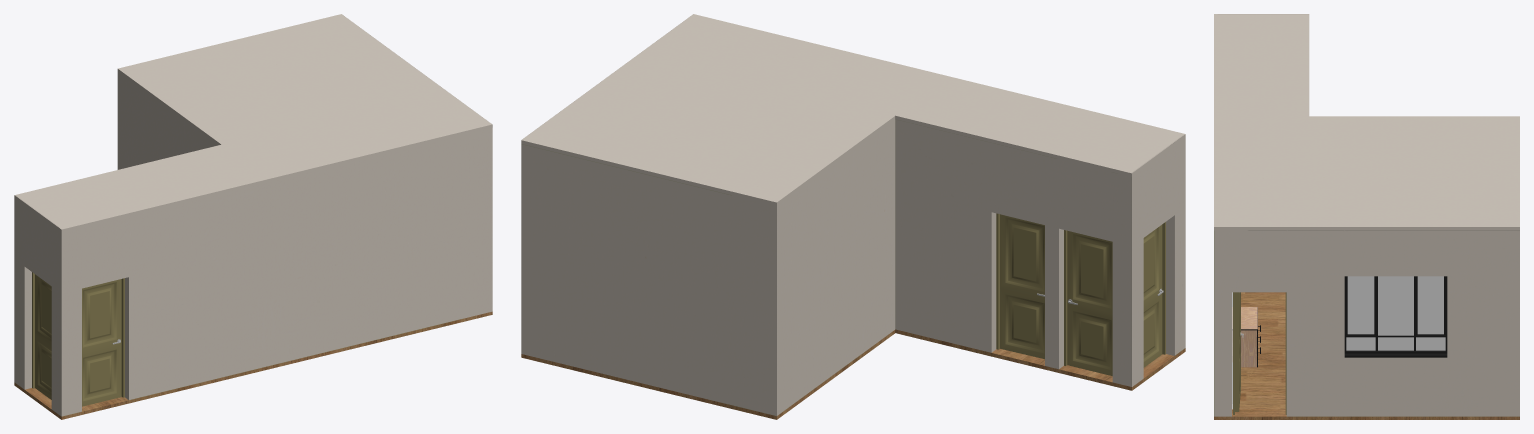
The model's file is HousePlan.fbx.
3 renders of one model, left to right at view 1: azimuth 30°, elevation 25°; view 2: azimuth 150°, elevation 25°; view 3: azimuth 270°, elevation 25°, orthographic. The views are drawn at different scales.
Visible parts, largest first — view 1: Outside_walls, Ceiling, BR_Door, LoungeFloor, BDR3_Door, BR_DoorFrame; view 2: Outside_walls, Ceiling, MB_Door, BDR2_Door, LoungeFloor, BDR3_Door; view 3: Ceiling, Outside_walls, Window, LoungeFloor, WindowFrame, Dresser, Lounge_Door, Lounge_DoorFrame.
Boxes of the visible parts, x1=… form: Outside_walls: x1=14, y1=72, x2=492, y2=416; Ceiling: x1=14, y1=14, x2=492, y2=232; BR_Door: x1=82, y1=279, x2=121, y2=406; LoungeFloor: x1=14, y1=311, x2=492, y2=419; BDR3_Door: x1=35, y1=274, x2=51, y2=399; BR_DoorFrame: x1=121, y1=278, x2=124, y2=397; Outside_walls: x1=521, y1=119, x2=1185, y2=416; Ceiling: x1=521, y1=14, x2=1185, y2=205; MB_Door: x1=1067, y1=230, x2=1112, y2=375; BDR2_Door: x1=1000, y1=214, x2=1044, y2=359; LoungeFloor: x1=521, y1=329, x2=1185, y2=419; BDR3_Door: x1=1143, y1=224, x2=1163, y2=367; Ceiling: x1=1214, y1=14, x2=1519, y2=230; Outside_walls: x1=1214, y1=230, x2=1519, y2=416; Window: x1=1346, y1=276, x2=1445, y2=350; LoungeFloor: x1=1214, y1=292, x2=1519, y2=419; WindowFrame: x1=1344, y1=276, x2=1447, y2=357; Dresser: x1=1232, y1=307, x2=1260, y2=367; Lounge_Door: x1=1235, y1=292, x2=1243, y2=411; Lounge_DoorFrame: x1=1233, y1=292, x2=1286, y2=414.
Bounding box in the file's own units: 7.36 × 3.1 × 4.46.
